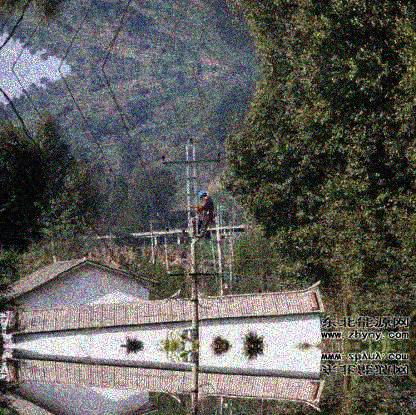helmet: (198, 191, 208, 202)
